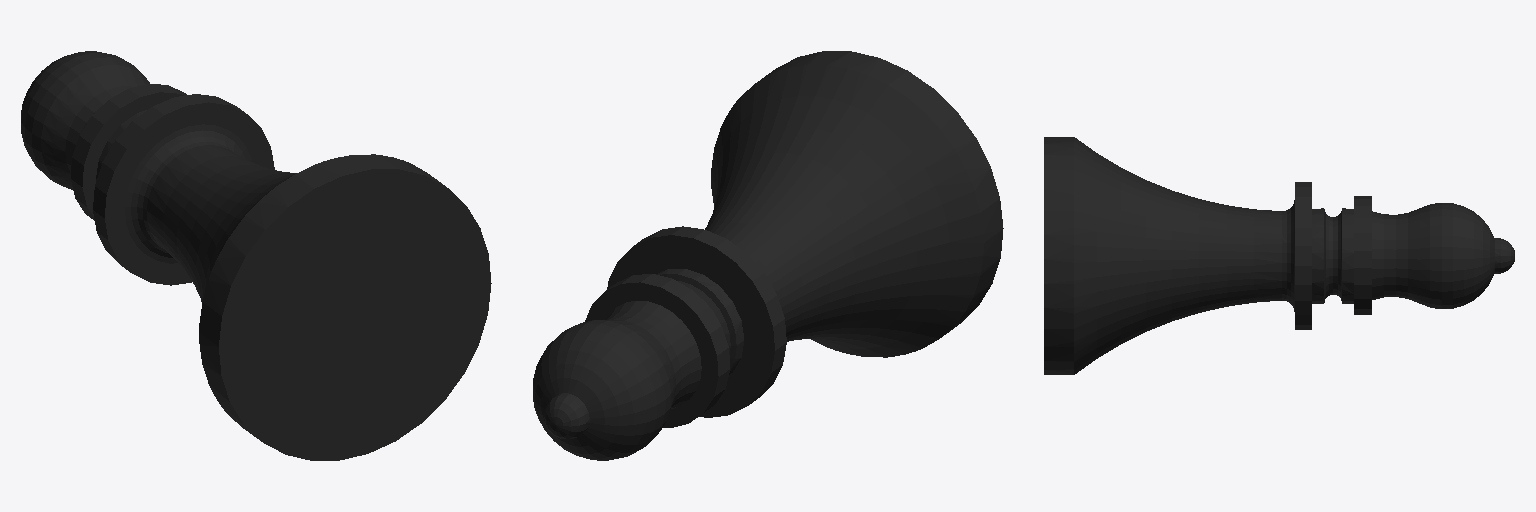
URDF robot description (patih):
<?xml version="1.0" encoding="utf-8"?>
<robot name="patih">
  <link name="base_link">
    <inertial>
      <origin xyz="2.77555756156289E-17 0.0143255951678129 -1.70696790036118E-14" rpy="0 0 0" />
      <mass value="0.00661332052175699" />
      <inertia
        ixx="1.23616318894567E-06" ixy="-5.94826960602266E-23" ixz="-8.66123826116076E-23"
        iyy="2.56903760063994E-07" iyz="9.11300481436128E-23"
        izz="1.23616318894567E-06" />
    </inertial>
    <visual>
      <origin xyz="0 0 0" rpy="0 0 0" />
      <geometry>
        <mesh filename="package://board_new/meshes/patih1.STL" />
      </geometry>
      <material name="">
        <color rgba="0.2 0.2 0.2 1" />
      </material>
    </visual>
    <collision>
      <origin xyz="0 0 0" rpy="0 0 0" />
      <geometry>
        <mesh filename="package://board_new/meshes/patih1.STL" />
      </geometry>
    </collision>
  </link>
  <gazebo reference="base_link">
    <mu1>0.5</mu1>
    <mu2>0.5</mu2>
    <material>Gazebo/DarkGrey</material>
  </gazebo>
</robot>

--- Render facts (derived) ---
3 views of the same robot in one strip: view 1: azimuth 30°, elevation 25°; view 2: azimuth 150°, elevation 25°; view 3: azimuth 270°, elevation 25° (orthographic).
Robot: patih — 1 links, 0 joints (none); root link base_link; default pose: all joints at 0.
Visible links, largest first — view 1: base_link; view 2: base_link; view 3: base_link.
Boxes of the visible links, box(x1,y1,x2,y2) form: base_link: box(21, 51, 491, 460); base_link: box(533, 51, 1003, 460); base_link: box(1044, 137, 1514, 374).
Size in the robot's own frame: 0.024 by 0.0475 by 0.024 metres.
Meshes: 1 distinct files referenced, 1 mesh visuals loaded (1 binary STL).
